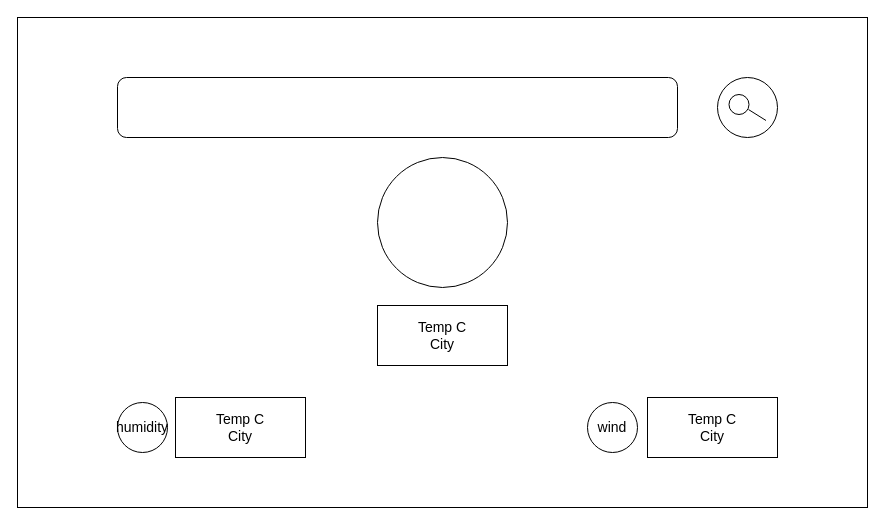
This 885x525 diagram has some shape labels left out. The shapes that lost their labels are listed below. From the top down, each one's centre as x and y in pixels, then its label:
At pixel 397 107: "Search Bar".
At pixel 442 222: "Status Icon".
